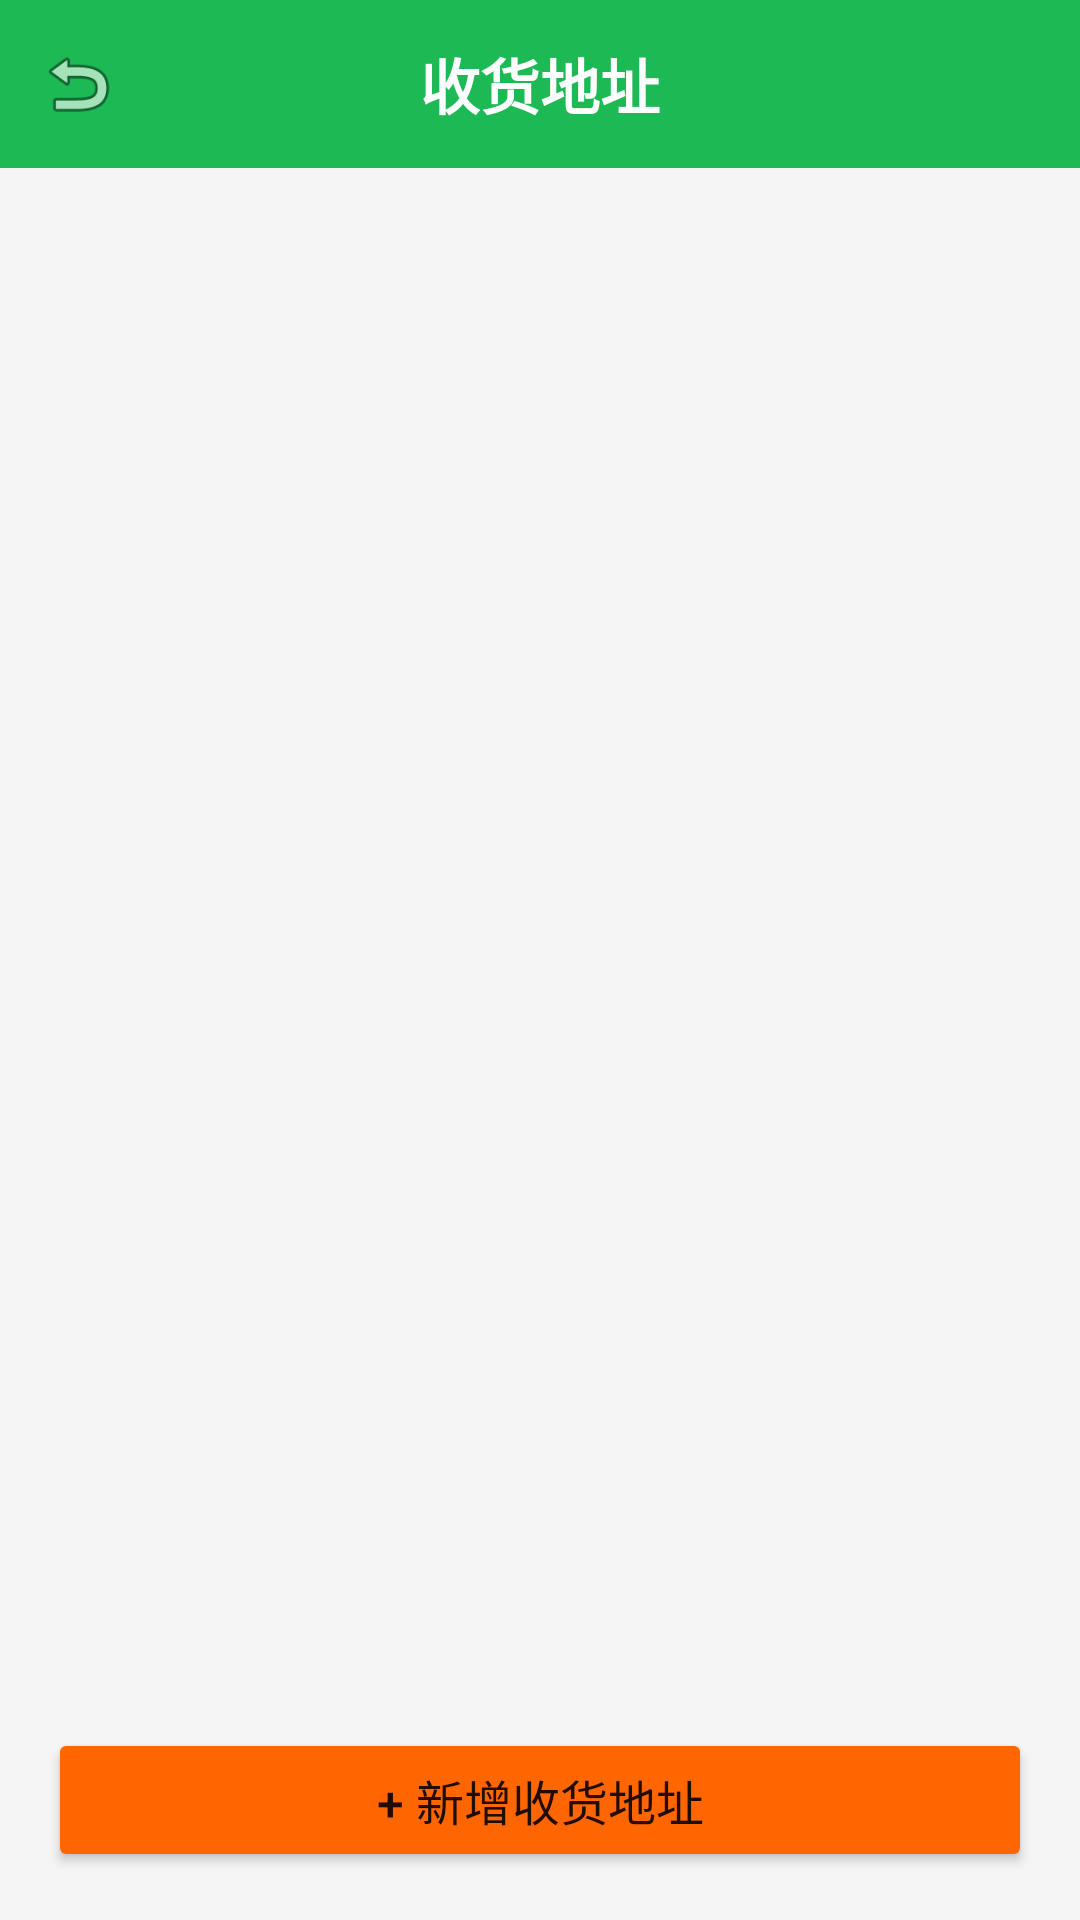

Screen size 1080px x 1920px. Icon name, then its center in pixels as (x,y):
revert: (79,84)
